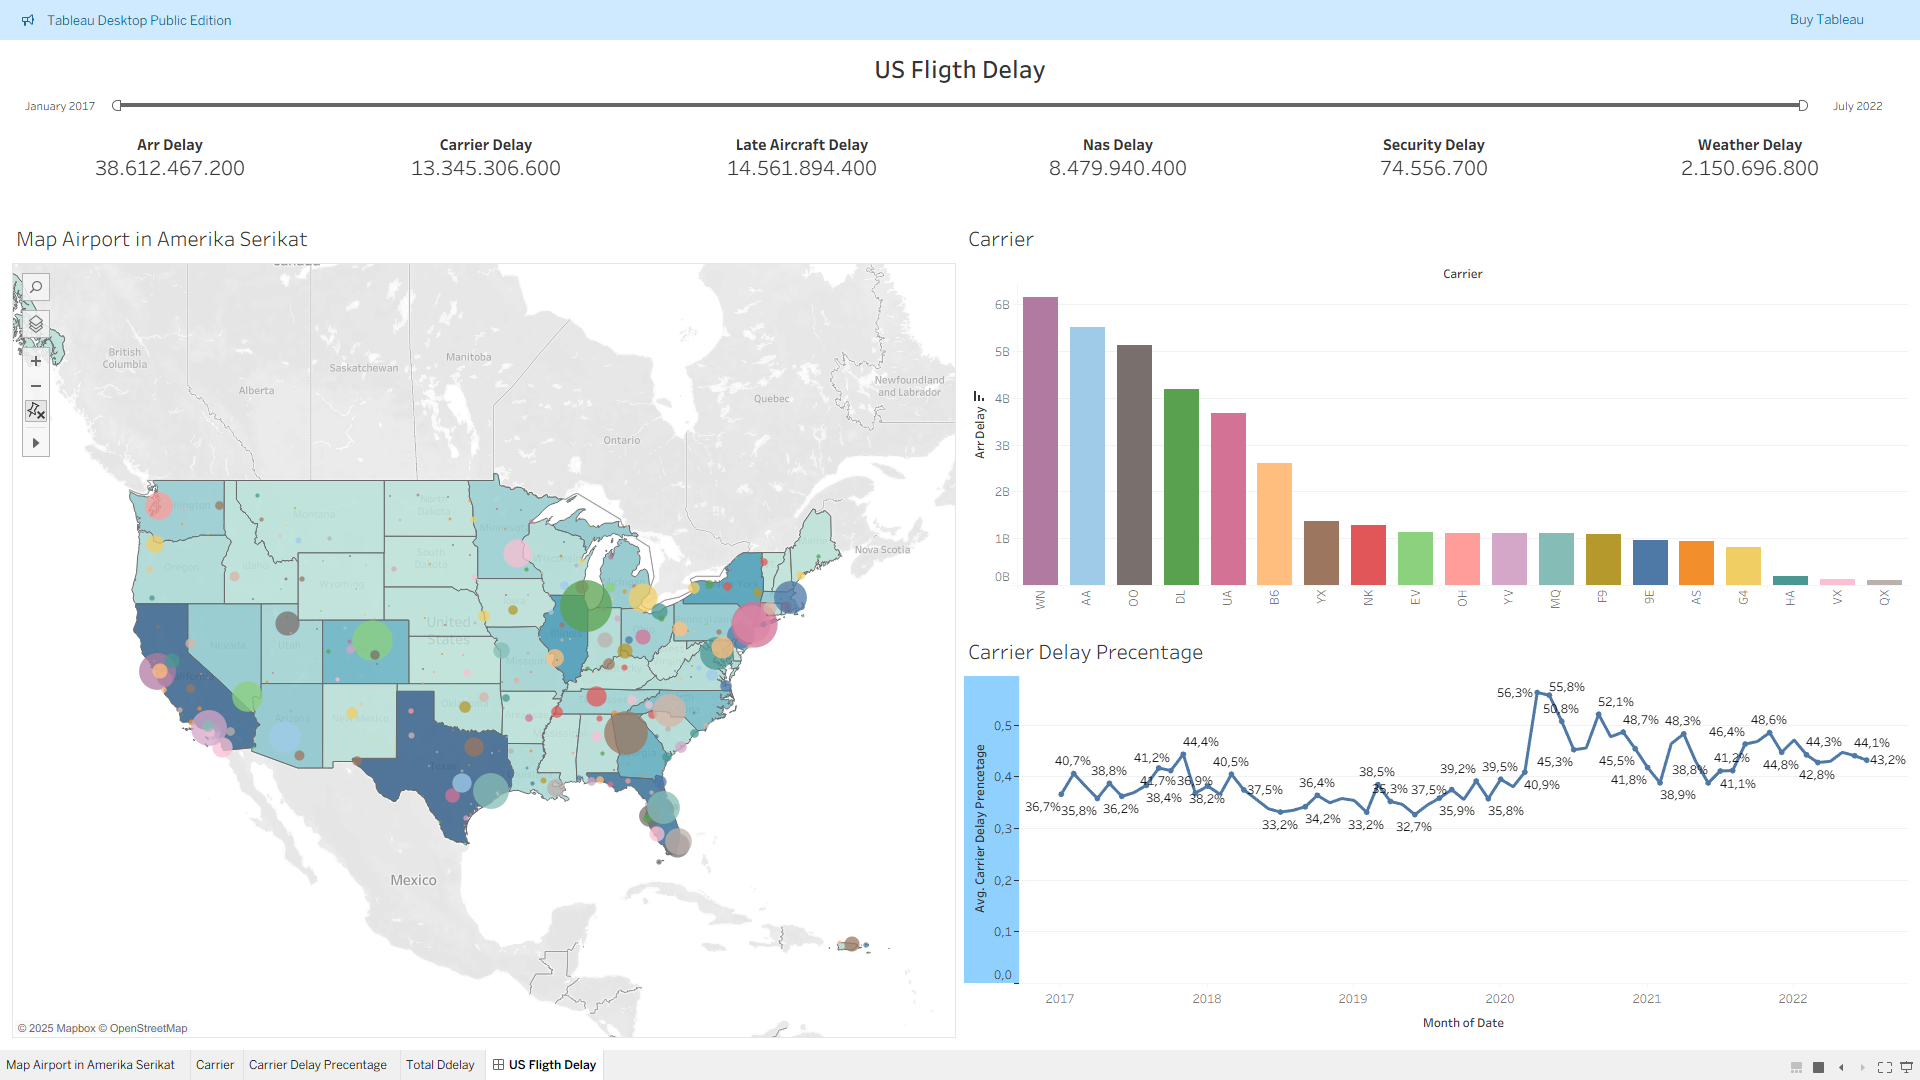

The page's visual inventory and layout, read from the dashboard file:
{"tool":"tableau","page":{"name":"US Fligth Delay","canvas":[1000,1000],"units":"permille","ordinal":0},"visuals":[{"type":"title","box":[4.2,8.8,991.6,45.4]},{"type":"filter","title":"Carrier Delay Precentage","param":"[federated.09n85f11njvo25177qevm0dl73oq].[tmn:Date:qk]","box":[4.2,54.2,991.6,40.1]},{"type":"worksheet","title":"Total Ddelay","mark":"Automatic","box":[4.2,94.3,991.6,84.8]},{"type":"worksheet","title":"Map Airport in Amerika Serikat","mark":"Automatic","box":[4.2,179.1,495.8,812]},{"type":"worksheet","title":"Carrier","mark":"Automatic","rows":["arr_delay"],"cols":["carrier"],"box":[500,179.1,495.8,406]},{"type":"worksheet","title":"Carrier Delay Precentage","mark":"Automatic","rows":["Calculation_350154879363997696"],"cols":["Date"],"box":[500,585.1,495.8,406]}]}

Visuals, with their boxes on the dashboard's canvas, which has no fixed pixel size, in thousandths of its width and height (x1, y1, x2, y2). These are canvas units, not pixel positions in the 1920x1080 screenshot, which may show the page scaled, cropped or inside an application window:
title: (4,9,996,54)
"Carrier Delay Precentage" filter: (4,54,996,94)
"Total Ddelay" worksheet: (4,94,996,179)
"Map Airport in Amerika Serikat" worksheet: (4,179,500,991)
"Carrier" worksheet: (500,179,996,585)
"Carrier Delay Precentage" worksheet: (500,585,996,991)
